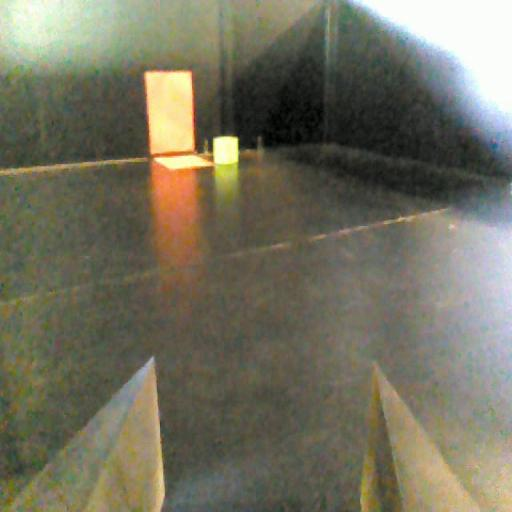cube: (208, 132, 242, 173)
